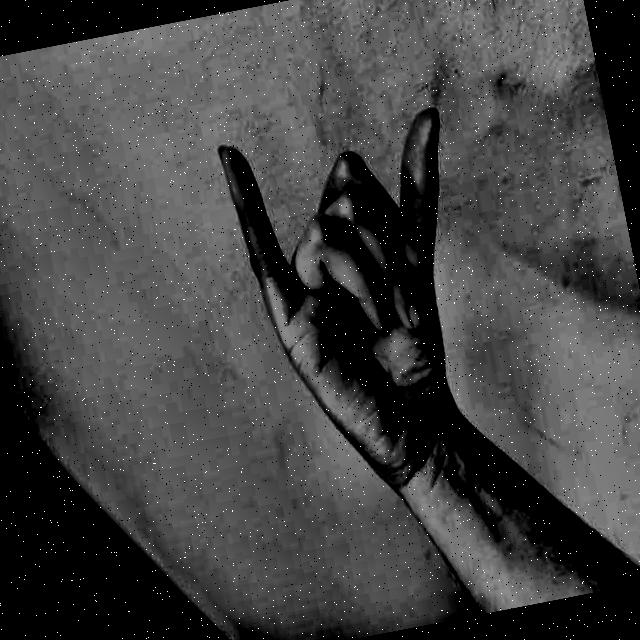Oi: (188, 59, 526, 507)
